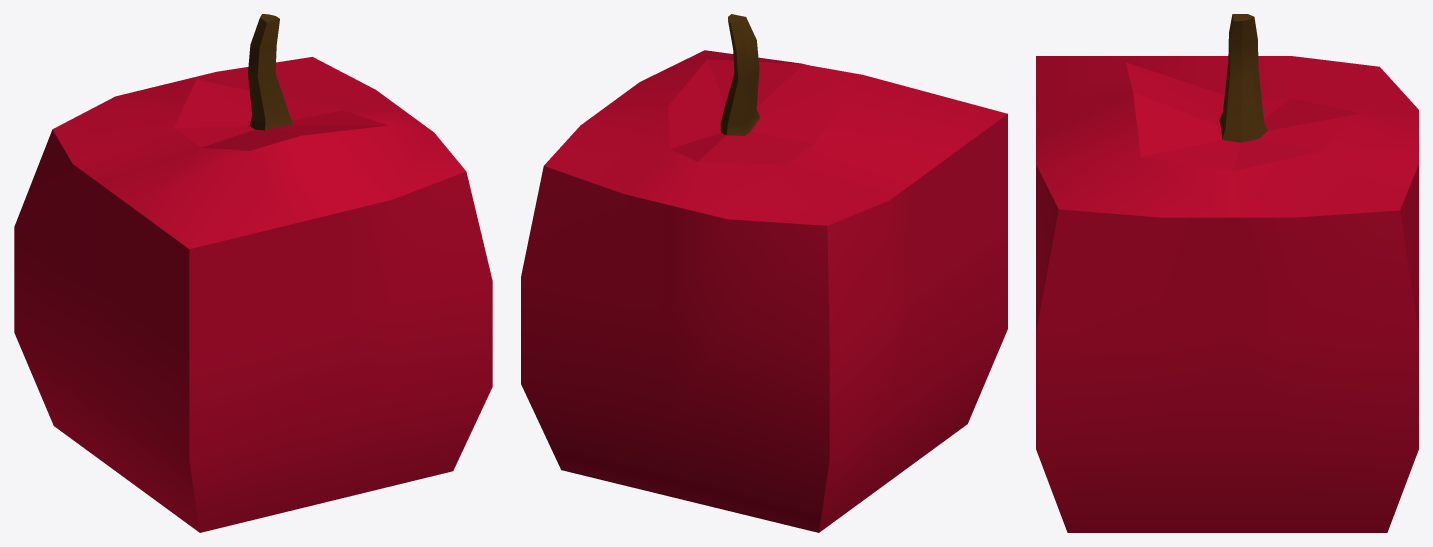
Rendered from apple.fbx.
3 views of the same model, side by side, from view 1: azimuth 30°, elevation 25°; view 2: azimuth 150°, elevation 25°; view 3: azimuth 270°, elevation 25° (orthographic). The views are drawn at different scales.
Visible parts, largest first — view 1: apple; view 2: apple; view 3: apple.
Boxes of the visible parts, x1,y1,x2,y2 form: apple: (14,14,492,532); apple: (521,14,1007,532); apple: (1036,14,1418,532).
Bounding box in the file's own units: 11.57 × 15.32 × 11.57.
